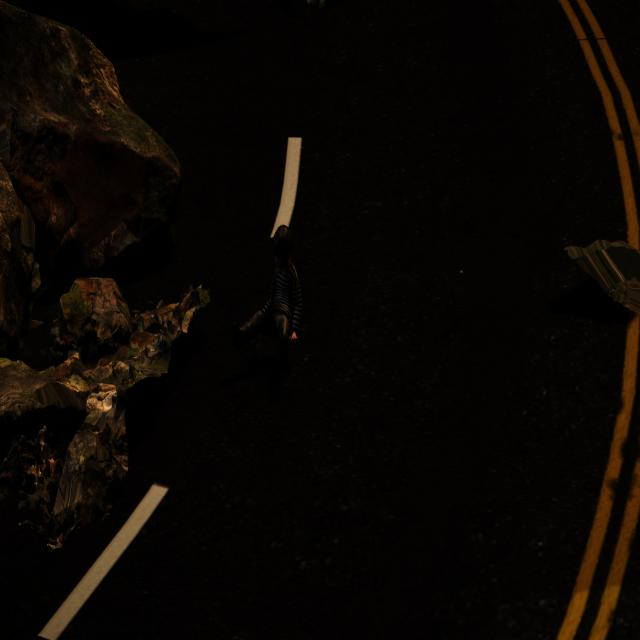Human: (220, 216, 307, 359)
